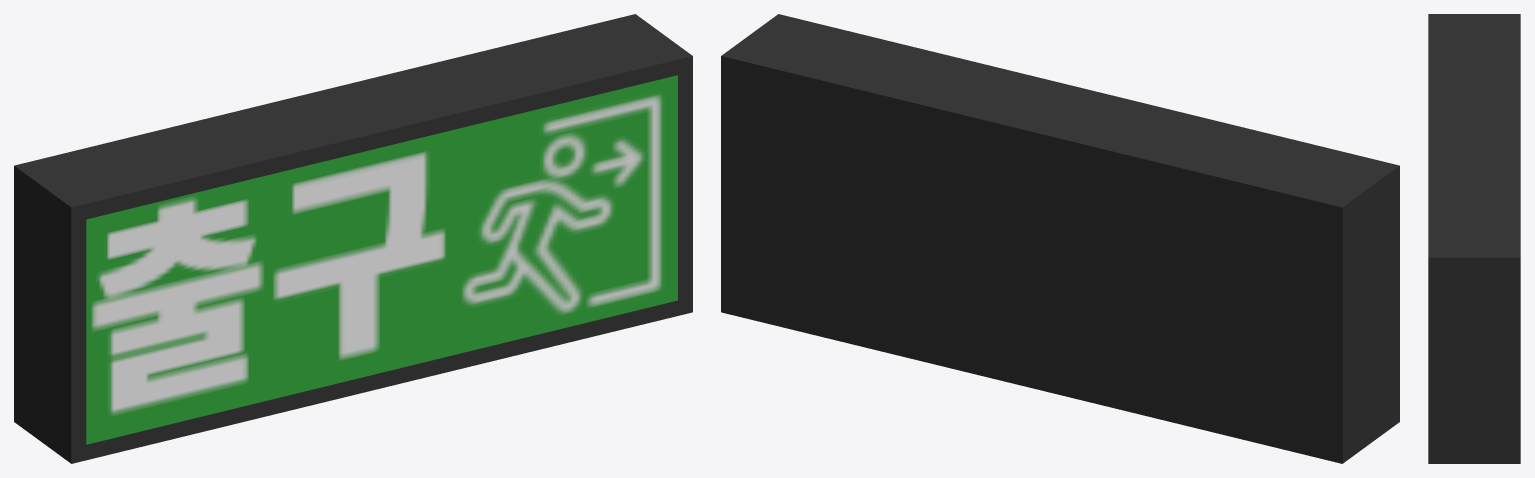
Rendered from B02_EXIT.fbx.
3 renders of one model, left to right at view 1: azimuth 30°, elevation 25°; view 2: azimuth 150°, elevation 25°; view 3: azimuth 270°, elevation 25°, orthographic. The views are drawn at different scales.
Visible parts, largest first — view 1: B02_EXIT; view 2: B02_EXIT; view 3: B02_EXIT.
Part boxes in pixels (x1=…): B02_EXIT: x1=14, y1=14, x2=692, y2=463; B02_EXIT: x1=721, y1=14, x2=1399, y2=463; B02_EXIT: x1=1428, y1=14, x2=1520, y2=463.
Size of the model in its own units: 294 by 116 by 47.04.
